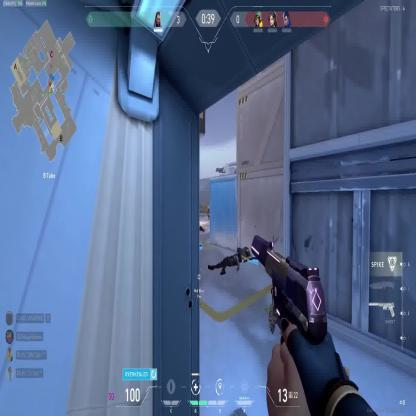enemy: (206, 203, 211, 221)
enemy_head: (208, 204, 210, 206)
